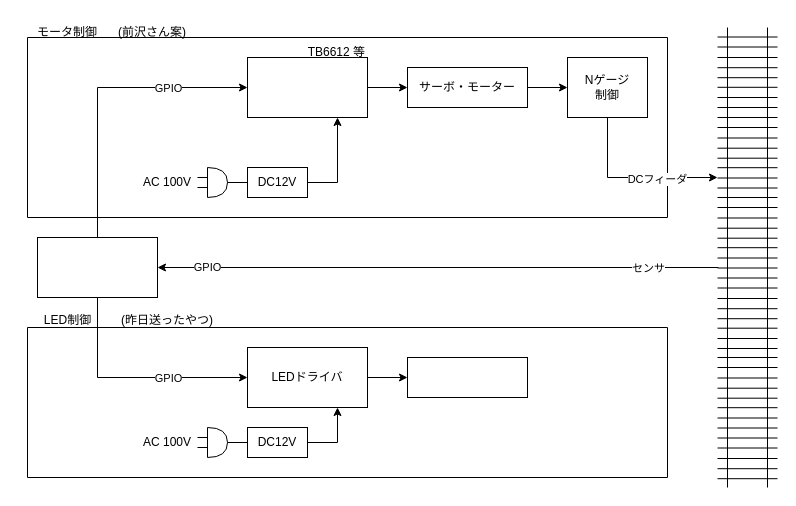
Image size: 796x506. Some labels were removed from this diagram. The shapes that lost their labels are listed below. From the top down, each one's centre as x and y in pixels, then its label:
At [307,87]: "モーター ドライバ".
At [97,267]: "Raspberry pi".
At [467,377]: "LEDテーブ".
